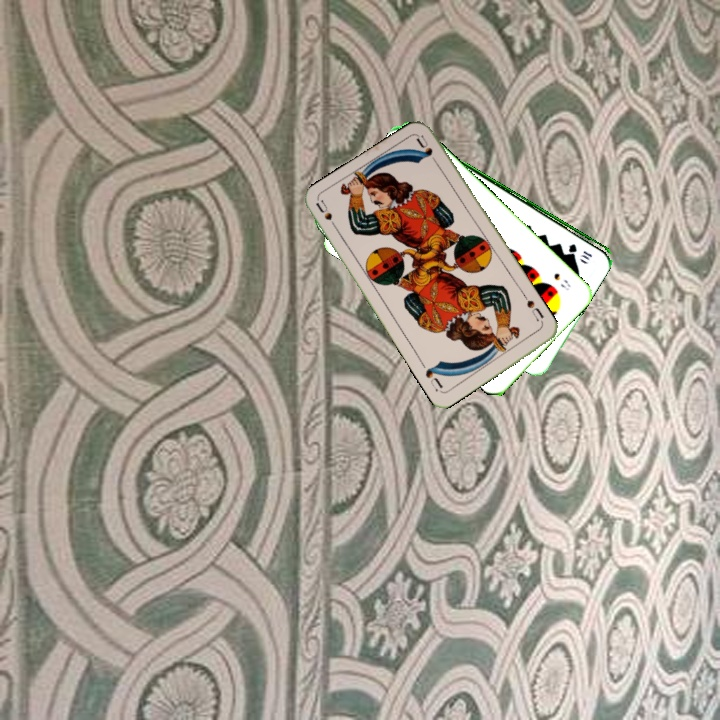G10: (565, 239, 595, 263)
S8: (550, 269, 573, 293)
SU: (312, 197, 342, 235), (522, 296, 547, 324)
